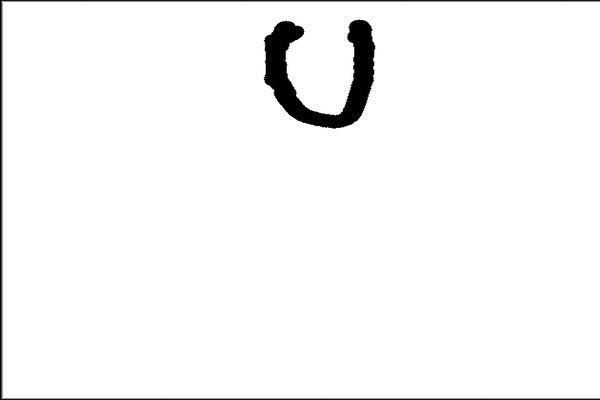U: (258, 10, 382, 129)
